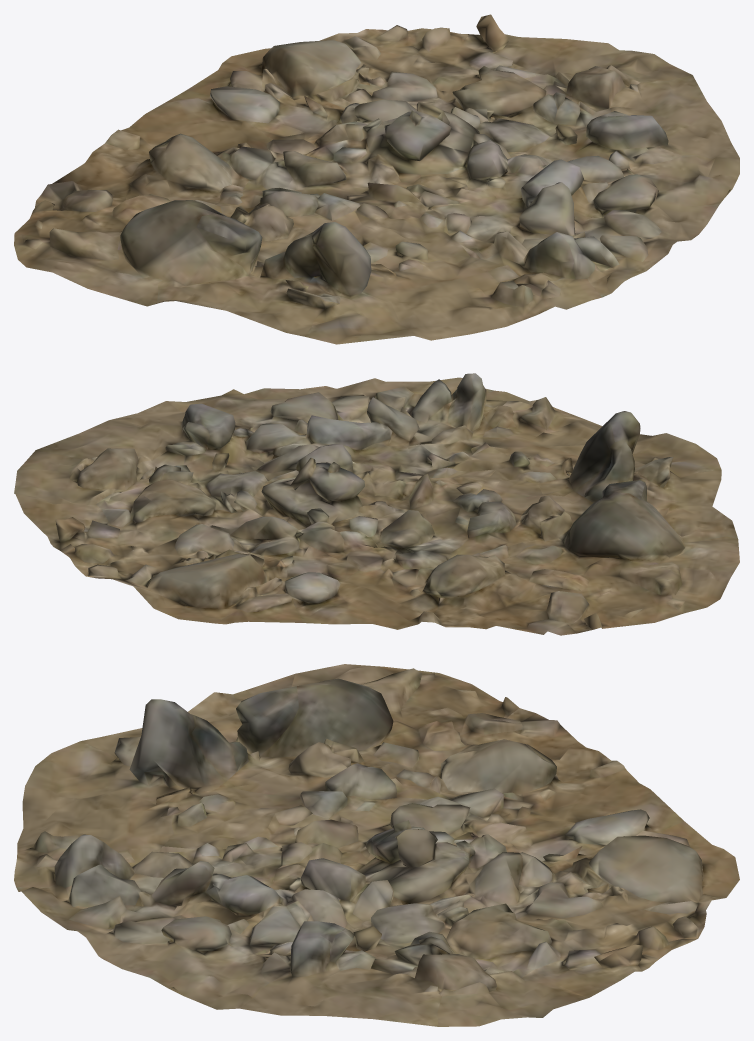
File: rock_small.glb
The picture shows the model from 3 angles, top to bottom: view 1: azimuth 30°, elevation 25°; view 2: azimuth 150°, elevation 25°; view 3: azimuth 270°, elevation 25°; orthographic projection. The views are drawn at different scales.
Parts seen in each view (by area): view 1: sand_rocks_small_01_LOD0; view 2: sand_rocks_small_01_LOD0; view 3: sand_rocks_small_01_LOD0.
Part boxes in pixels (bbox=[...]): sand_rocks_small_01_LOD0: bbox=[14, 14, 739, 344]; sand_rocks_small_01_LOD0: bbox=[14, 373, 739, 635]; sand_rocks_small_01_LOD0: bbox=[14, 664, 739, 1026].
Bounding box in the file's own units: 4.63 × 0.5333 × 3.88.
Materials: 1 (1 with a texture image).
